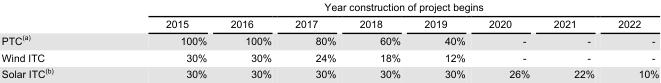table: (0, 0, 658, 79)
table column: (108, 0, 217, 79), (0, 0, 108, 79), (217, 0, 282, 79), (282, 0, 347, 79), (411, 0, 476, 79), (540, 0, 605, 79), (347, 0, 411, 79), (476, 0, 540, 79), (605, 0, 658, 79)
table column header: (0, 0, 658, 30)
table row: (0, 30, 658, 48), (0, 14, 658, 30), (0, 48, 658, 64), (0, 64, 658, 79), (0, 0, 658, 14)
table spanning cell: (108, 0, 658, 14)
